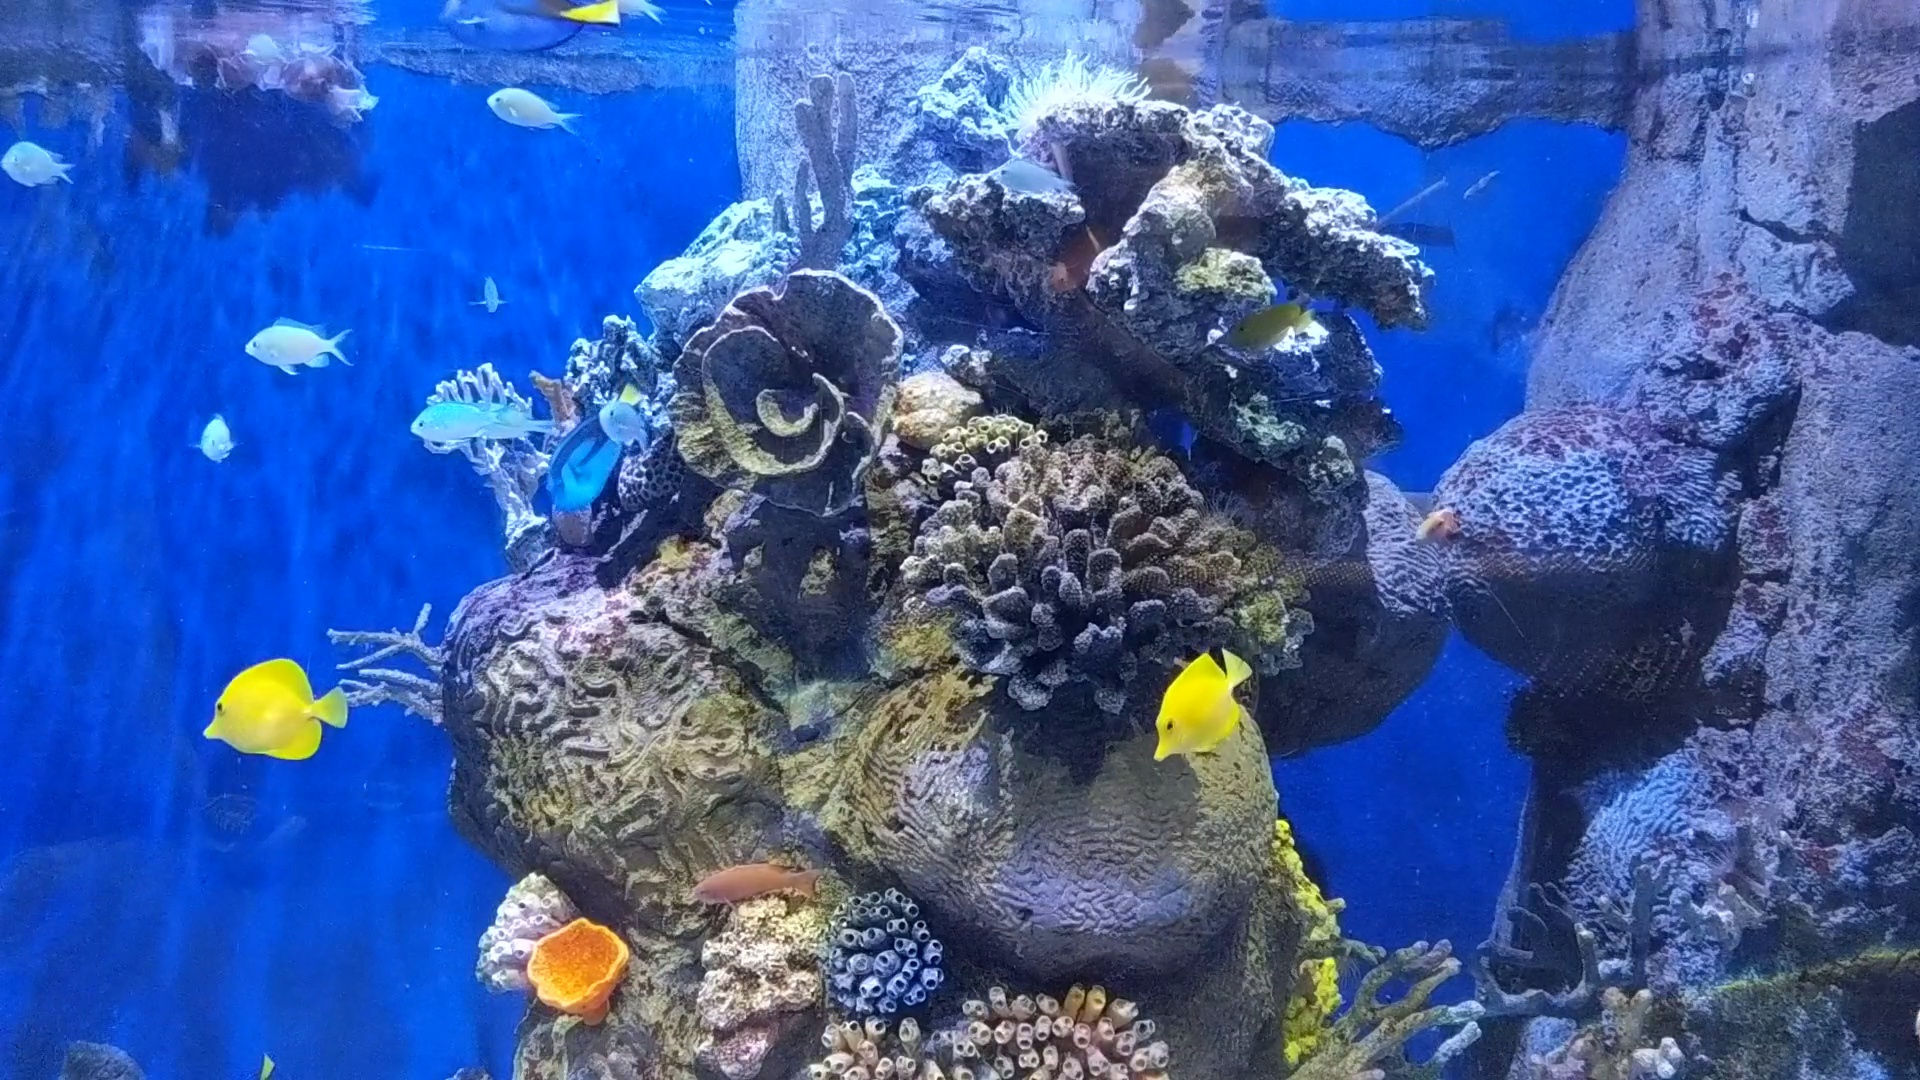blue tang surgeonfish: (541, 368, 642, 524)
damselfish: (402, 394, 520, 454), (244, 316, 342, 378), (484, 84, 574, 135), (593, 392, 662, 446), (1, 141, 73, 179), (190, 411, 236, 468), (464, 262, 500, 314)
saddle butterfly fish: (190, 654, 363, 762), (1143, 634, 1258, 774)
